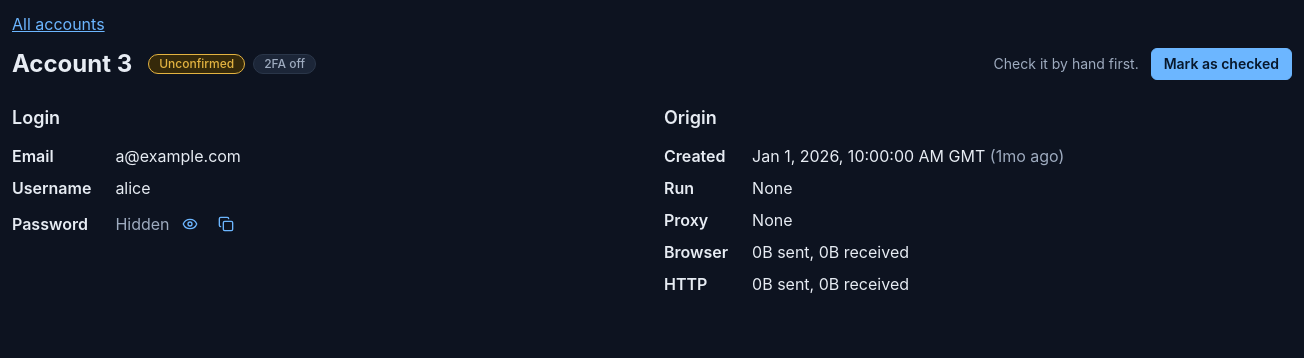
Test: page › shows a failed request, and clears it on the next confirm
Click the button "Mark as checked".
click(1221, 64)  # box [1151,48,1292,80]
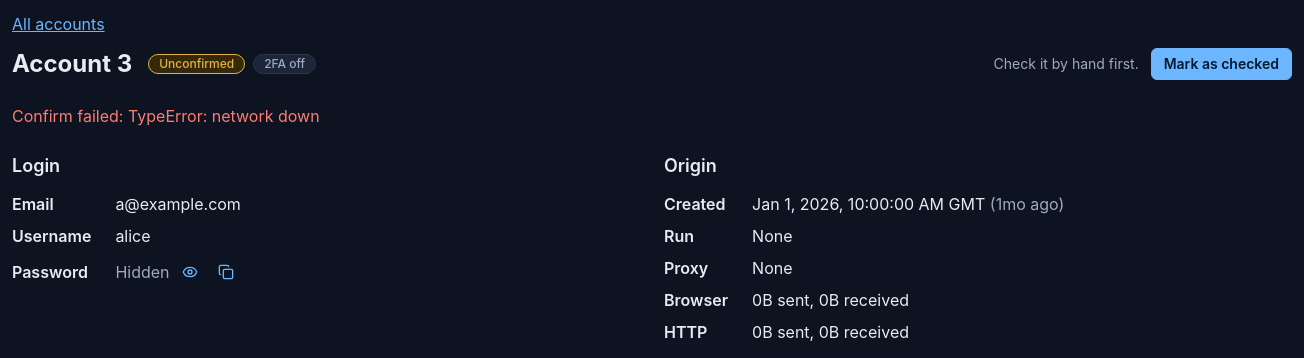
expect the message reads "Confirm failed: TypeError: network down": met, box [12,106,320,126]
Click the button "Mark as checked".
click(1221, 64)  # box [1151,48,1292,80]
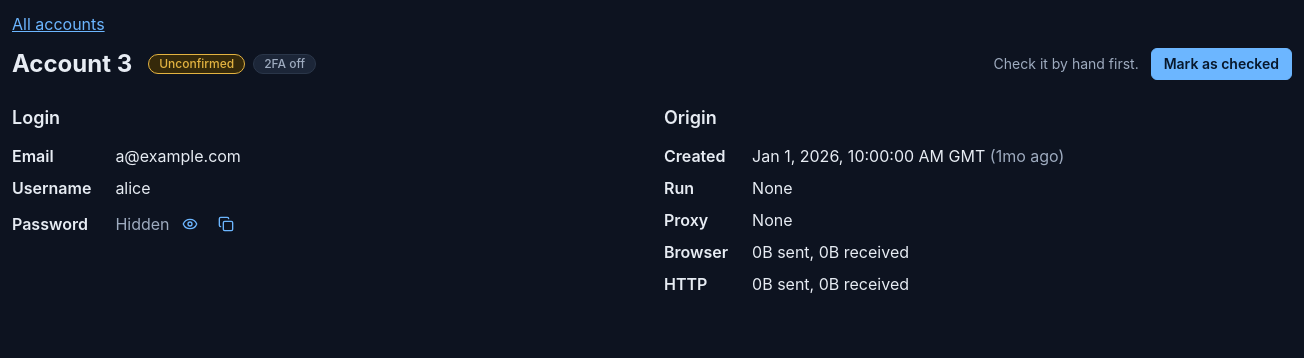
expect the message "Confirm failed: TypeError: network down" is gone: met
